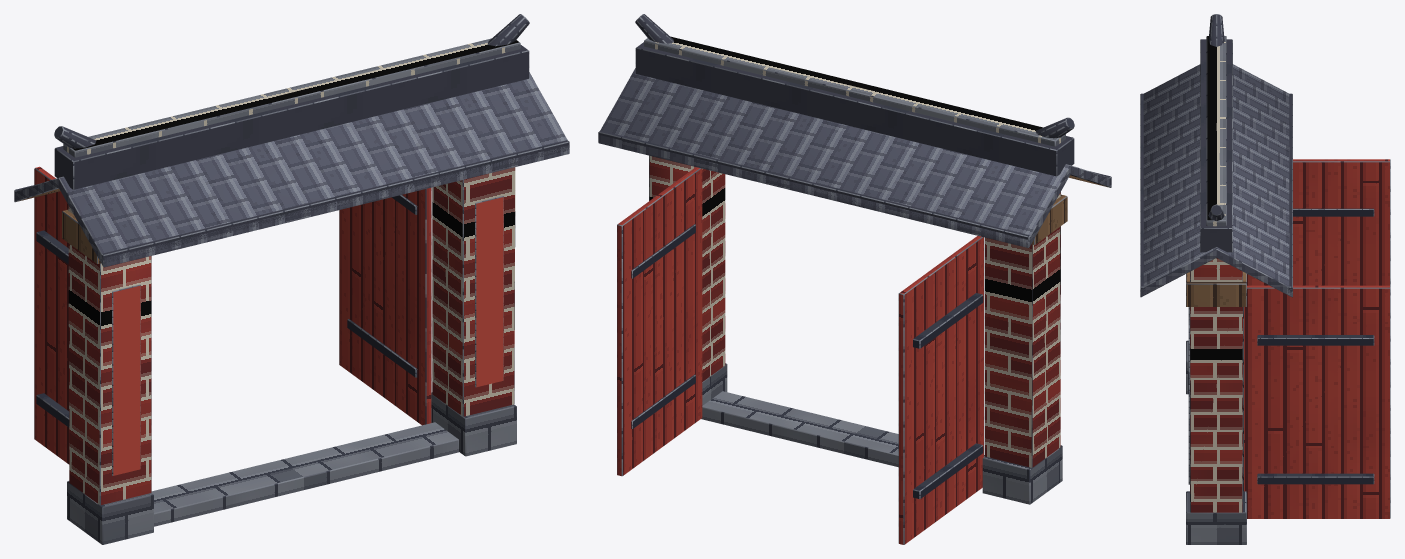
Rendered from cn_courtyard_gate_0.glb.
3 renders of one model, left to right at view 1: azimuth 30°, elevation 25°; view 2: azimuth 150°, elevation 25°; view 3: azimuth 270°, elevation 25°, orthographic. The views are drawn at different scales.
Parts seen in each view (by area): view 1: cn_courtyard_gate_1; view 2: cn_courtyard_gate_1; view 3: cn_courtyard_gate_1.
Part boxes in pixels (box(x1,y1,x2,y2)): cn_courtyard_gate_1: box(14, 14, 569, 544); cn_courtyard_gate_1: box(598, 14, 1111, 544); cn_courtyard_gate_1: box(1140, 14, 1390, 544).
Bounding box in the file's own units: 4.56 × 3.78 × 2.46.
10 materials, 10 textured.
